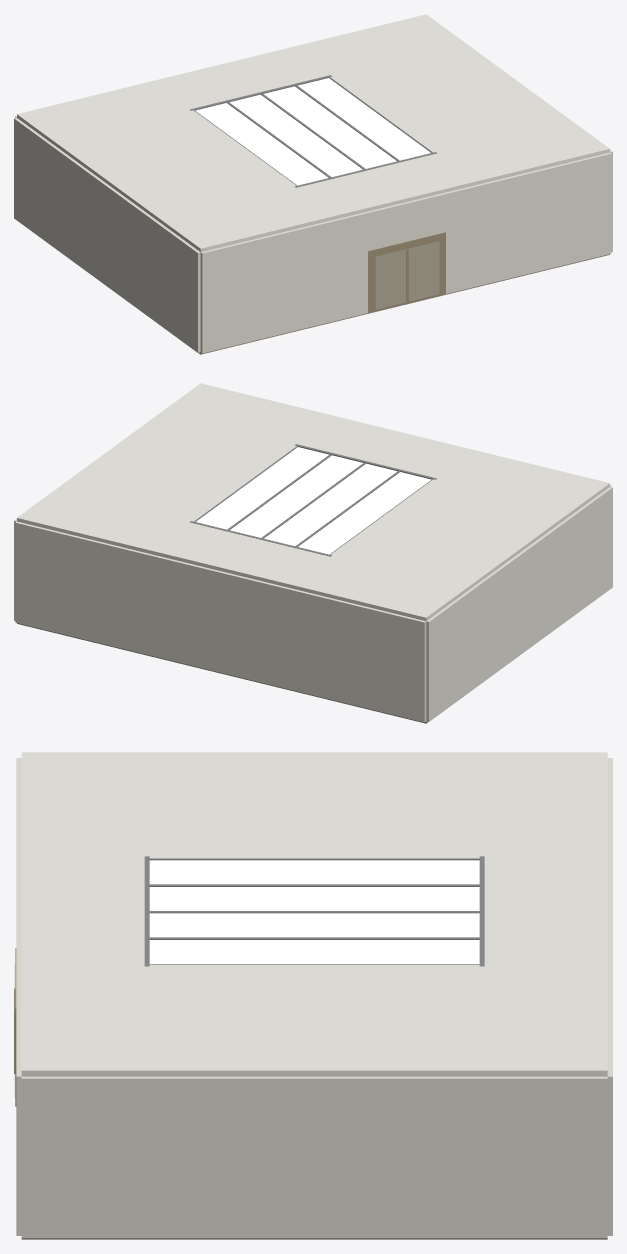
File: mall_hub.glb
The picture shows the model from 3 angles, top to bottom: view 1: azimuth 30°, elevation 25°; view 2: azimuth 150°, elevation 25°; view 3: azimuth 270°, elevation 25°; orthographic projection. The views are drawn at different scales.
Visible parts, largest first — view 1: static_hub_ceiling, static_hub_wall, static_hub_sky, static_hub_trim, static_hub_glass, static_hub_sky_frame, static_hub_grout; view 2: static_hub_ceiling, static_hub_wall, static_hub_sky, static_hub_sky_frame, static_hub_grout; view 3: static_hub_ceiling, static_hub_wall, static_hub_sky, static_hub_sky_frame, static_hub_grout.
Part boxes in pixels (x1,y1,x2,y2): static_hub_ceiling: (17, 14, 609, 252); static_hub_wall: (14, 116, 612, 353); static_hub_sky: (195, 78, 430, 185); static_hub_trim: (368, 232, 445, 312); static_hub_glass: (376, 241, 439, 308); static_hub_sky_frame: (190, 75, 436, 187); static_hub_grout: (199, 254, 609, 354); static_hub_ceiling: (17, 383, 609, 621); static_hub_wall: (14, 485, 612, 722); static_hub_sky: (196, 447, 431, 554); static_hub_sky_frame: (190, 444, 436, 556); static_hub_grout: (17, 623, 427, 723); static_hub_ceiling: (21, 752, 607, 1076); static_hub_wall: (16, 758, 612, 1237); static_hub_sky: (149, 860, 479, 963); static_hub_sky_frame: (144, 856, 484, 966); static_hub_grout: (21, 1238, 607, 1239).
Size of the model in its own units: 18.25 by 4.46 by 14.3.
